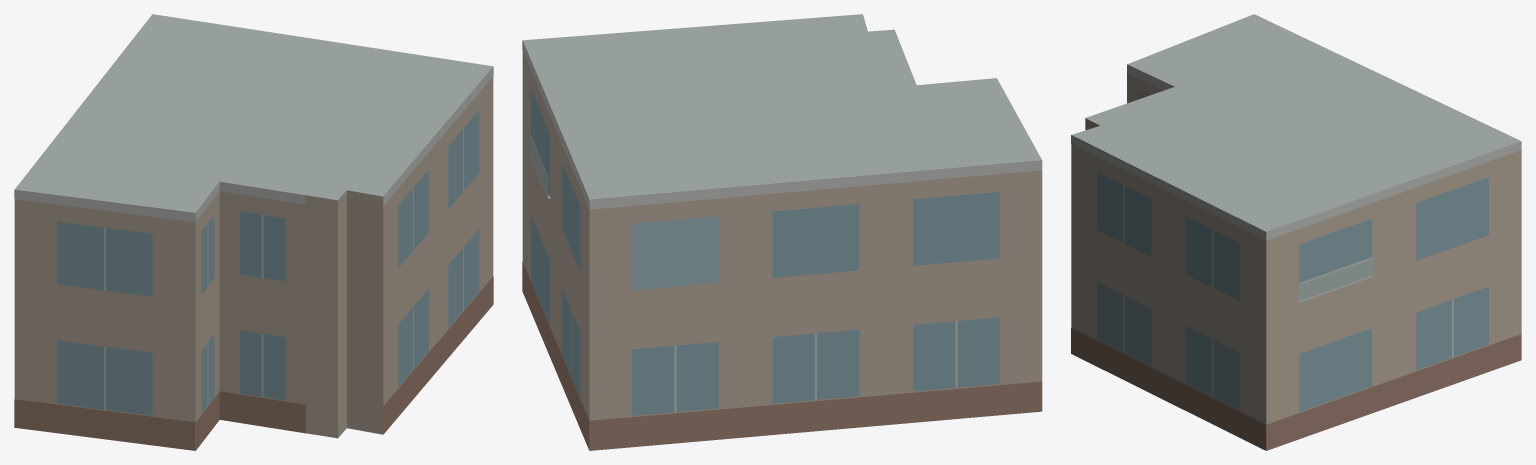
File: survey-upis-32491489.glb
3 renders of one model, left to right at view 1: azimuth 30°, elevation 25°; view 2: azimuth 150°, elevation 25°; view 3: azimuth 270°, elevation 25°, orthographic. The views are drawn at different scales.
Visible parts, largest first — view 1: survey-upis-32491489.tmp; view 2: survey-upis-32491489.tmp; view 3: survey-upis-32491489.tmp.
Boxes of the visible parts, x1=… form: survey-upis-32491489.tmp: x1=14, y1=14, x2=493, y2=450; survey-upis-32491489.tmp: x1=522, y1=14, x2=1042, y2=450; survey-upis-32491489.tmp: x1=1071, y1=14, x2=1521, y2=450.
Bounding box in the file's own units: 13.03 × 6.1 × 11.38.
